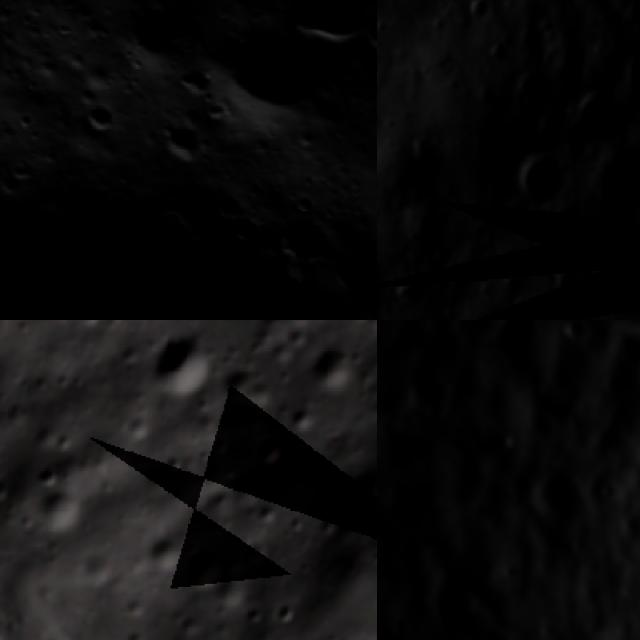crater: (196, 0, 369, 159), (502, 444, 614, 556), (98, 0, 195, 85), (137, 323, 226, 415), (261, 194, 350, 284), (298, 327, 375, 402), (148, 102, 222, 176), (177, 542, 236, 607), (510, 147, 570, 210), (560, 88, 625, 144), (75, 88, 132, 146), (588, 150, 640, 207), (347, 0, 377, 76), (247, 432, 288, 474), (552, 264, 587, 301), (404, 136, 438, 172), (396, 281, 431, 308), (465, 0, 502, 23), (499, 272, 531, 298), (445, 271, 476, 297), (487, 38, 512, 68), (427, 245, 454, 269), (625, 49, 640, 92), (548, 218, 571, 240), (377, 17, 397, 37), (628, 2, 640, 28)
